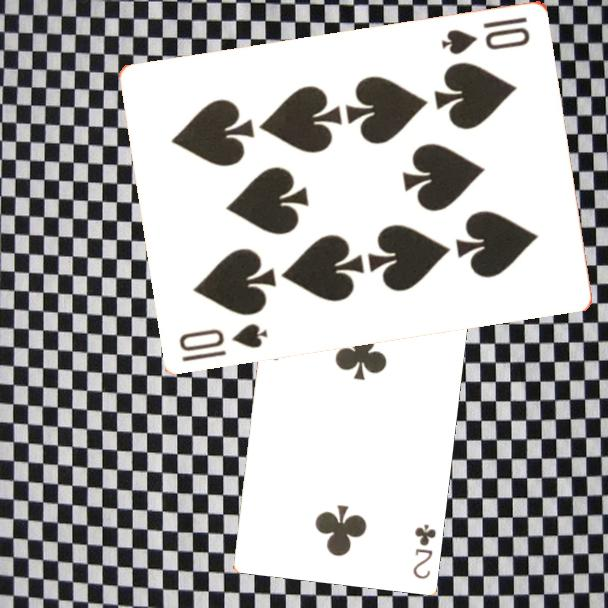c02: (409, 520, 439, 582)
s10: (176, 319, 271, 364), (438, 13, 534, 57)
